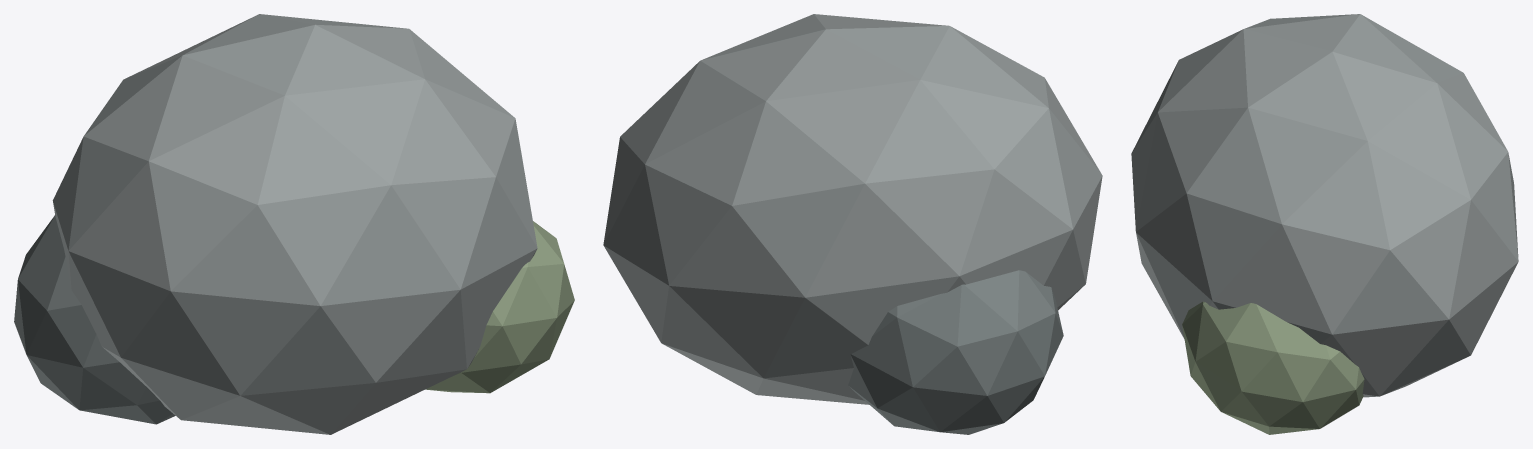
File: boulder_medium_1p8m.glb
3 renders of one model, left to right at view 1: azimuth 30°, elevation 25°; view 2: azimuth 150°, elevation 25°; view 3: azimuth 270°, elevation 25°, orthographic. The views are drawn at different scales.
Parts seen in each view (by area): view 1: boulder_medium_01, boulder_medium_02, boulder_medium_03; view 2: boulder_medium_01, boulder_medium_02; view 3: boulder_medium_01, boulder_medium_03.
Part boxes in pixels (<box>): boulder_medium_01: <box>52,14,537,434</box>; boulder_medium_02: <box>14,215,175,424</box>; boulder_medium_03: <box>425,221,574,393</box>; boulder_medium_01: <box>603,14,1102,404</box>; boulder_medium_02: <box>848,270,1063,434</box>; boulder_medium_01: <box>1131,14,1518,397</box>; boulder_medium_03: <box>1182,301,1364,434</box>.
Size of the model in its own units: 1.77 by 1.35 by 1.42.
